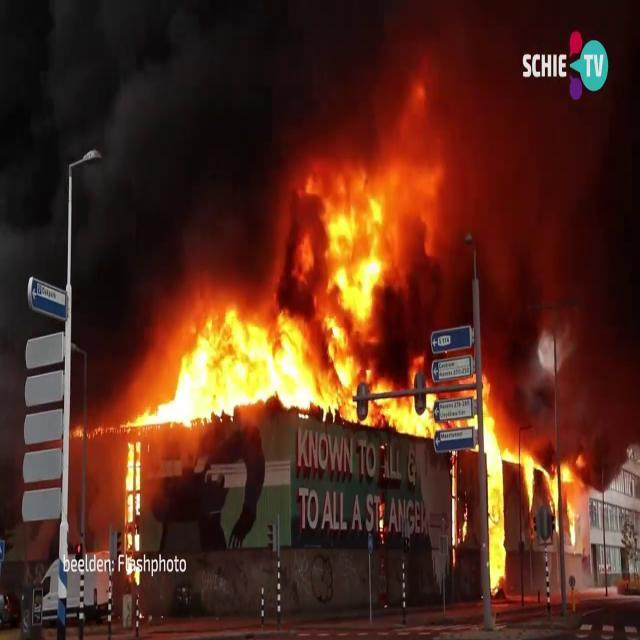Fire: (138, 141, 444, 438), (134, 296, 332, 433), (476, 371, 582, 598), (367, 366, 439, 440), (120, 428, 144, 562)
Smoke: (0, 1, 287, 326), (386, 0, 638, 368)
